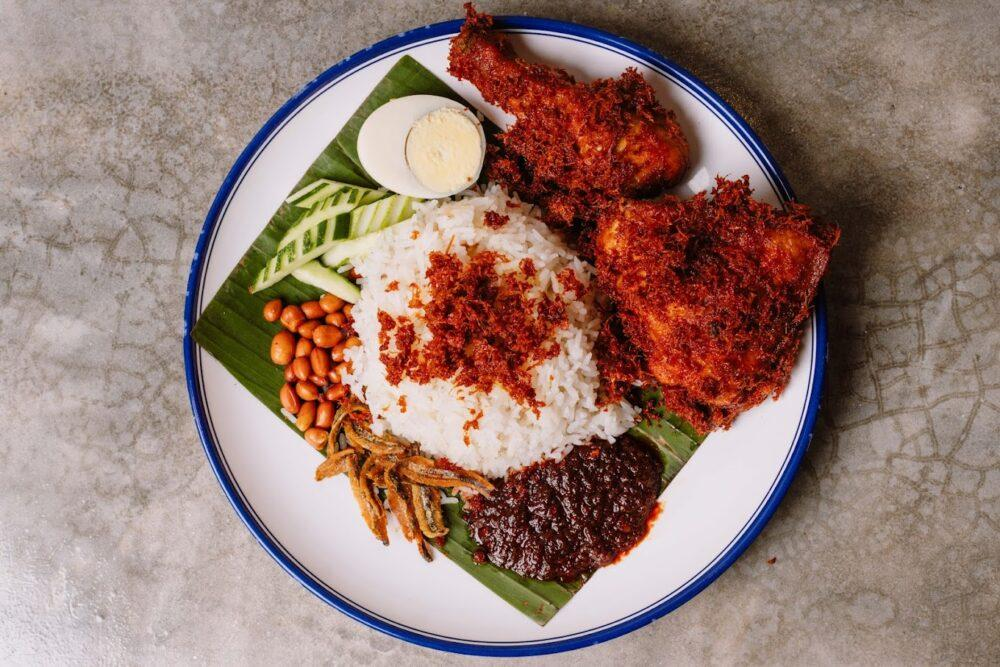Anchovies: (316, 432, 476, 562)
Boiled-Egg: (358, 95, 489, 199)
Cucumber: (249, 183, 417, 304)
Fried-Chicken: (448, 4, 842, 438)
Peanuts: (263, 294, 372, 454)
Rice: (322, 195, 617, 476)
Sambal: (473, 434, 663, 578)
